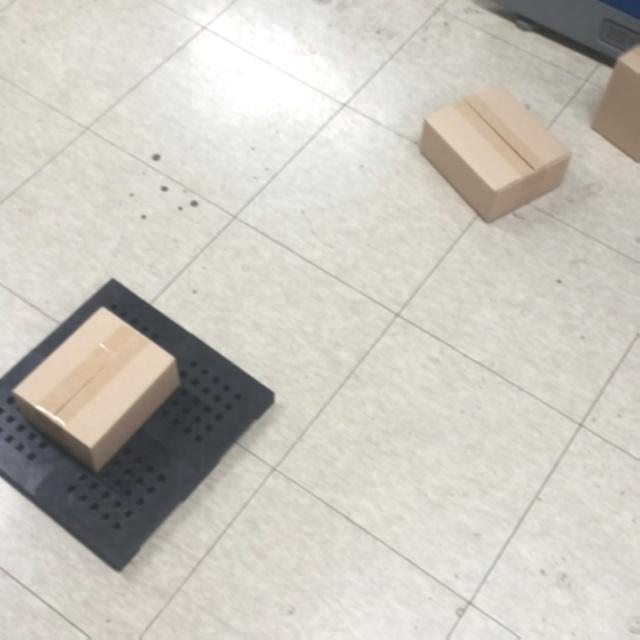box: (4, 302, 187, 478), (417, 75, 573, 226)
pallet: (0, 269, 282, 582)
